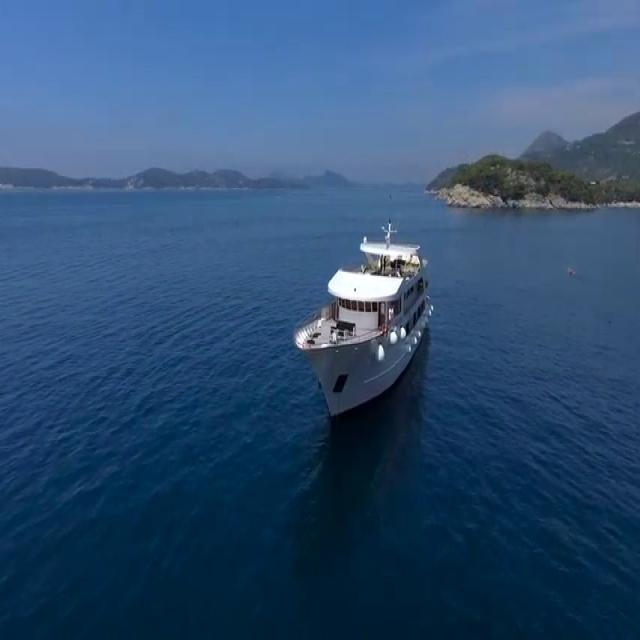passenger ship: (282, 218, 432, 421)
